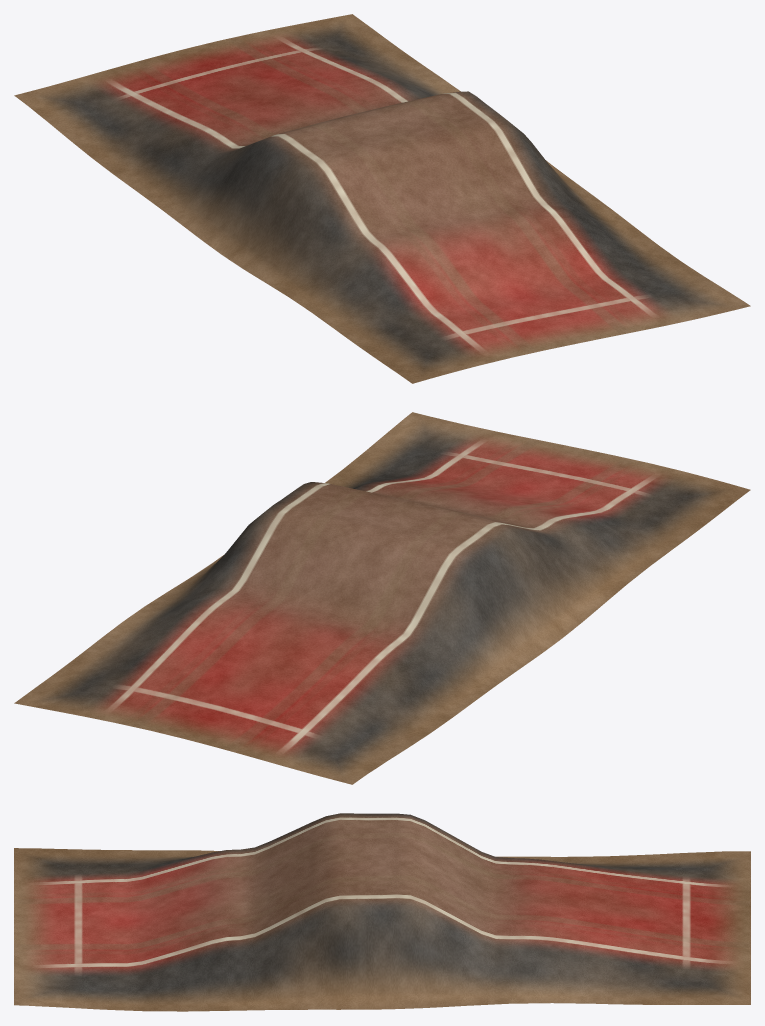
File: SouthKicker.obj
3 renders of one model, top to bottom at view 1: azimuth 30°, elevation 25°; view 2: azimuth 150°, elevation 25°; view 3: azimuth 270°, elevation 25°, orthographic. The views are drawn at different scales.
Parts seen in each view (by area): view 1: SouthKicker; view 2: SouthKicker; view 3: SouthKicker.
Part boxes in pixels (box(x1,y1,x2,y2)): SouthKicker: box(14, 14, 750, 383); SouthKicker: box(14, 412, 750, 784); SouthKicker: box(14, 813, 750, 1011).
Bounding box in the file's own units: 10.3 × 2.48 × 21.
Materials: 1 (1 with a texture image).
